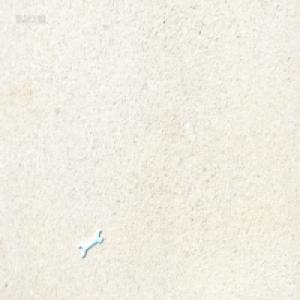Wrench: (79, 229, 103, 258)
